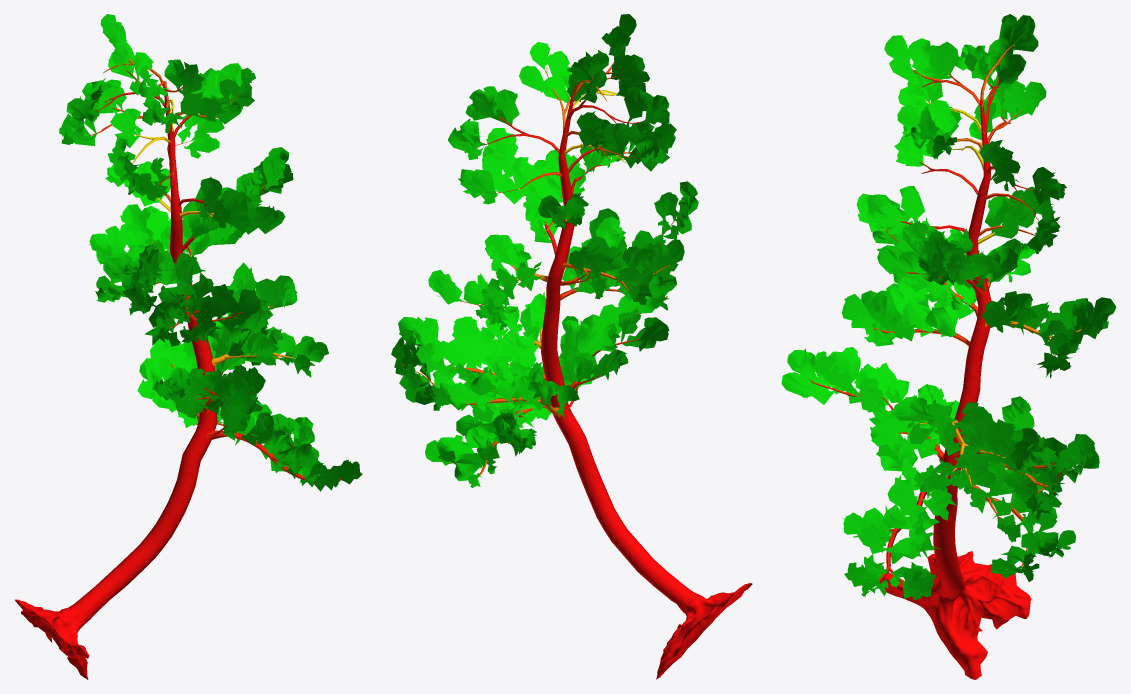
Rendered from Pine_002_U.FBX.
3 views of the same model, side by side, from view 1: azimuth 30°, elevation 25°; view 2: azimuth 150°, elevation 25°; view 3: azimuth 270°, elevation 25° (orthographic). The views are drawn at different scales.
Visible parts, largest first — view 1: U_LOD0; view 2: U_LOD0; view 3: U_LOD0.
Part boxes in pixels (bbox=[...]): U_LOD0: bbox=[14, 14, 362, 679]; U_LOD0: bbox=[391, 14, 752, 679]; U_LOD0: bbox=[781, 14, 1116, 679].
Size of what is drawn, in the model's own units: 1629 by 3361 by 1481.
